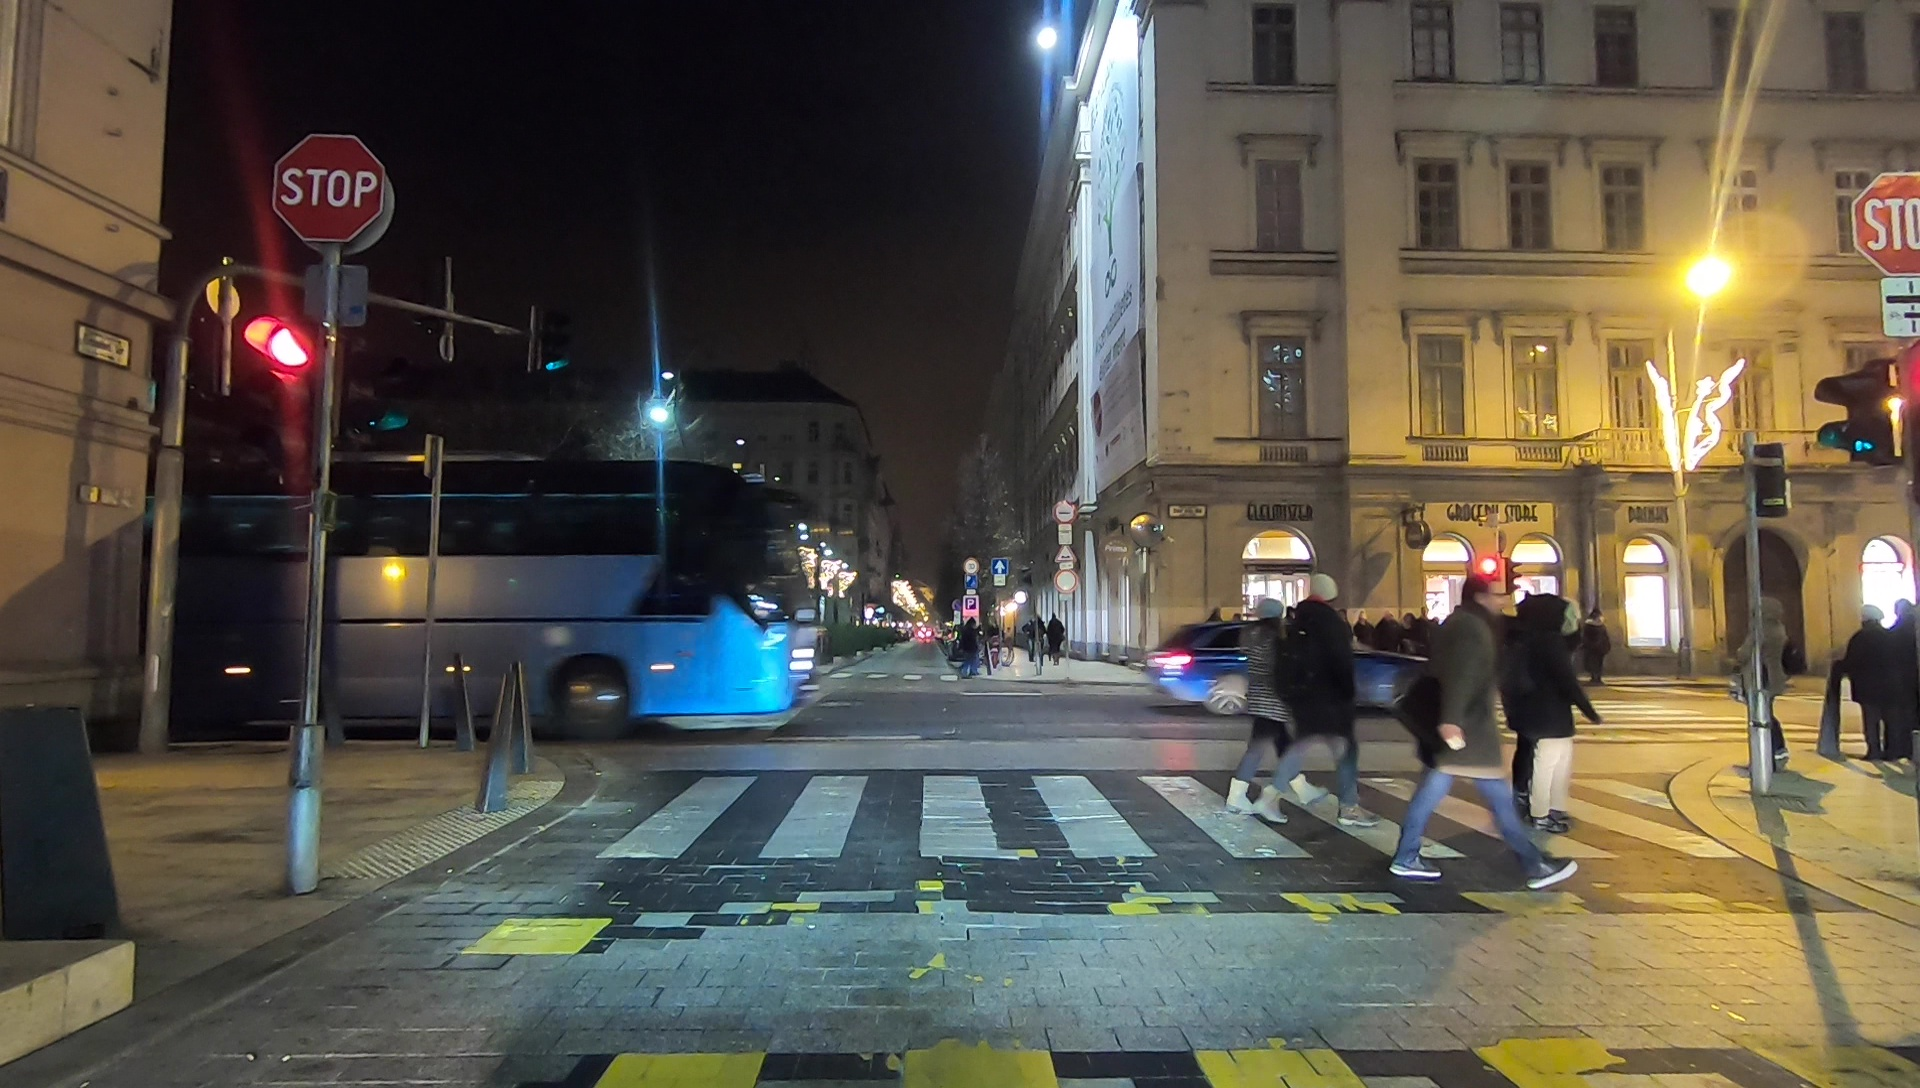person: (1399, 580, 1551, 889), (1284, 580, 1373, 828), (1230, 597, 1323, 821), (1510, 593, 1578, 826), (1730, 593, 1804, 765), (1880, 589, 1920, 761), (1851, 611, 1889, 773), (1586, 608, 1606, 682), (1049, 617, 1067, 661)
